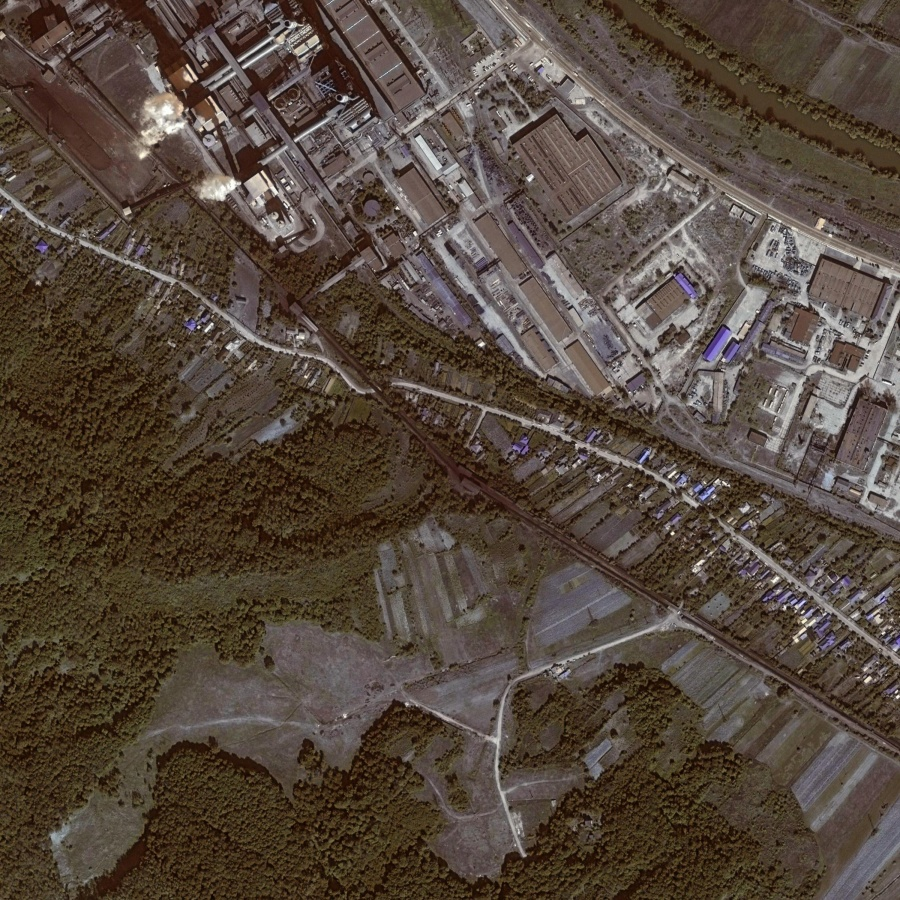PowerPlant: (24, 1, 239, 230)
